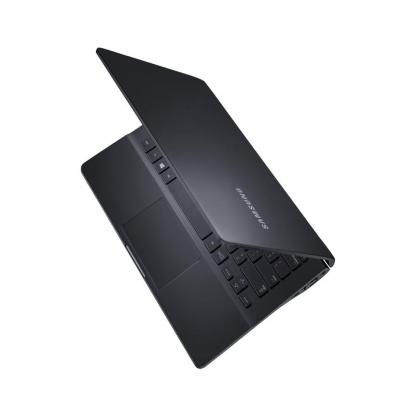board: (87, 29, 342, 369)
